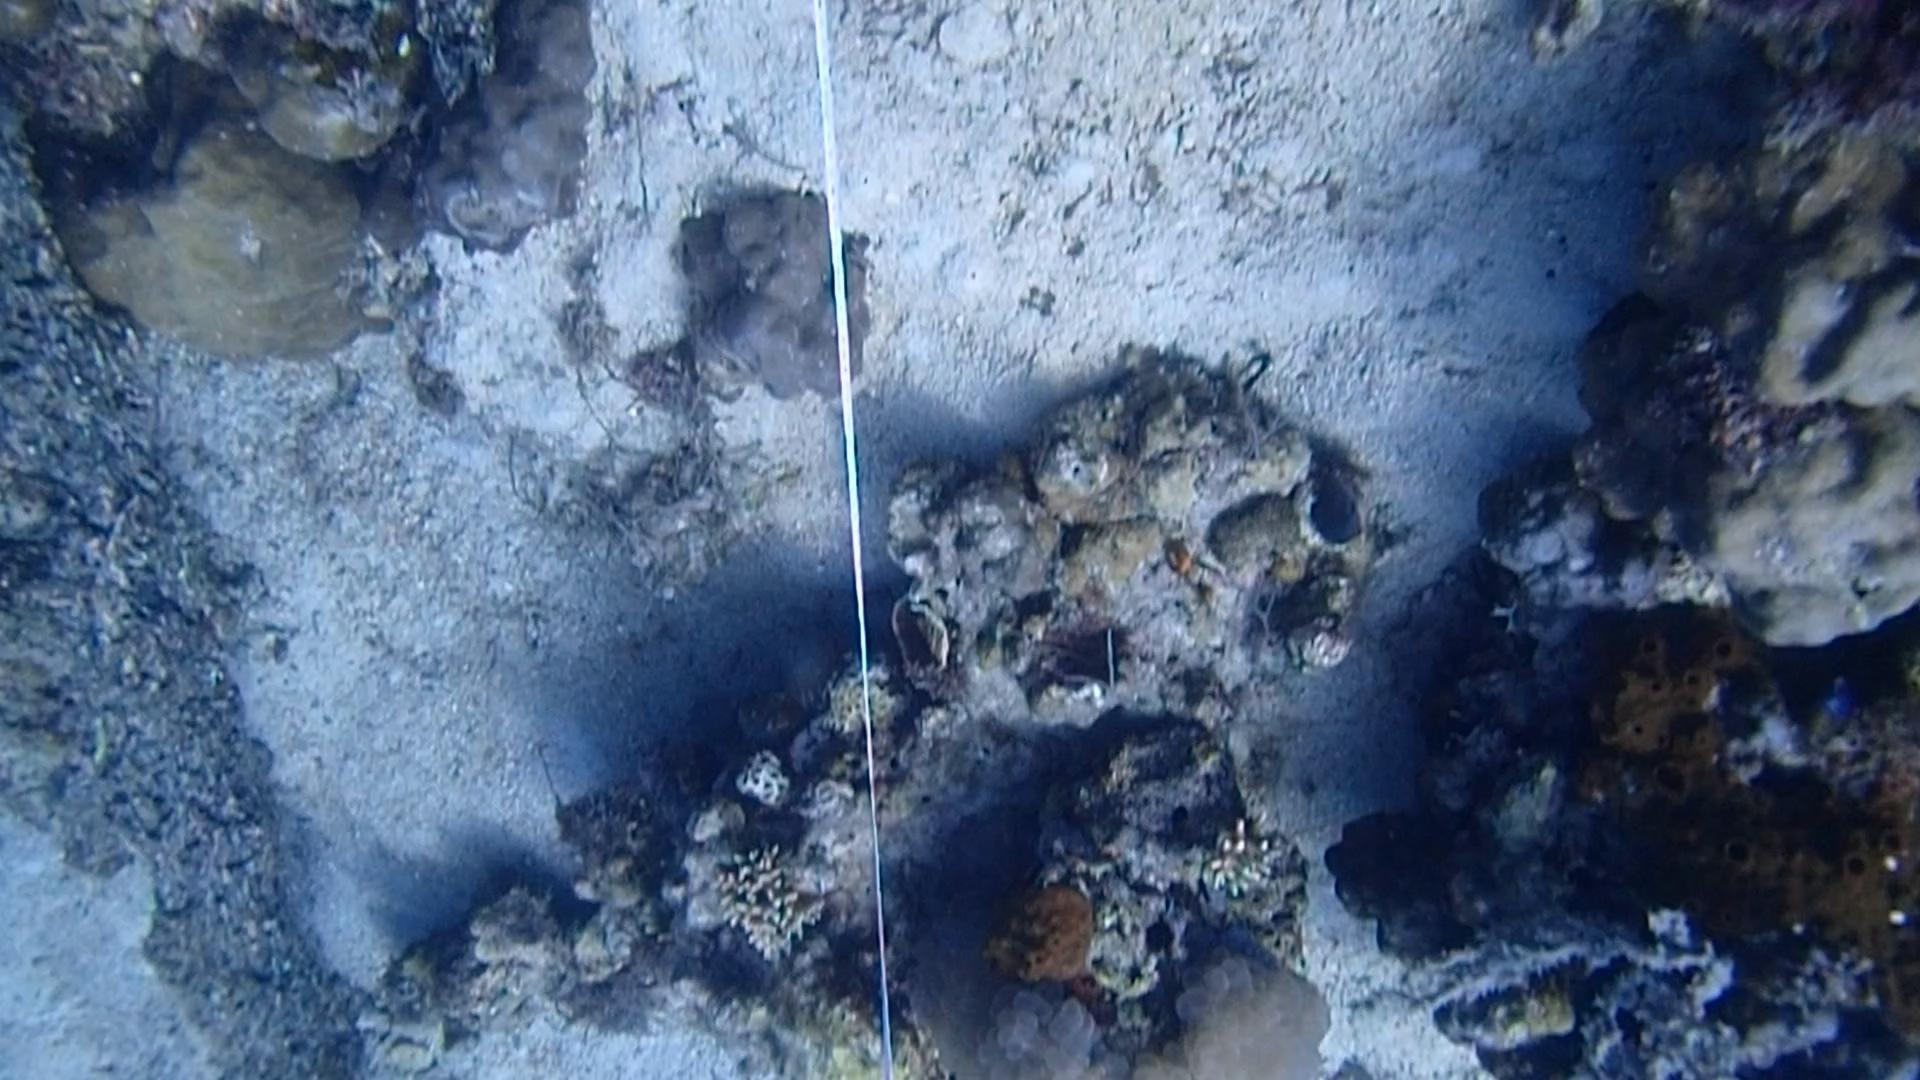Big Dark Blue Fish: (1283, 459, 1379, 558)
